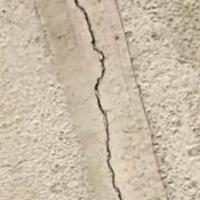crack: (64, 0, 142, 199)
